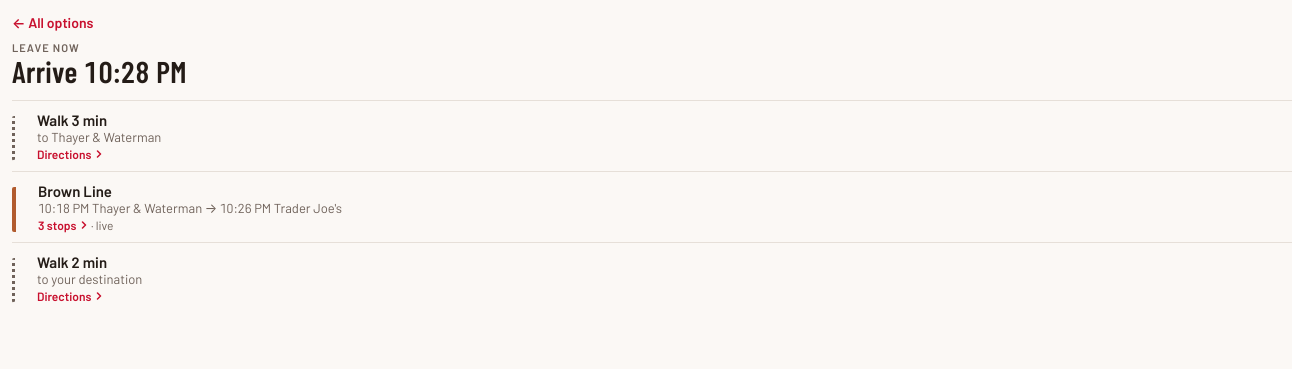
ItineraryDetail walking directions › rounds distances to something a walker can act on
Step 1. Click the button "Directions" next to "to your destination" → [70, 296], box left=31, top=284, right=109, bottom=308
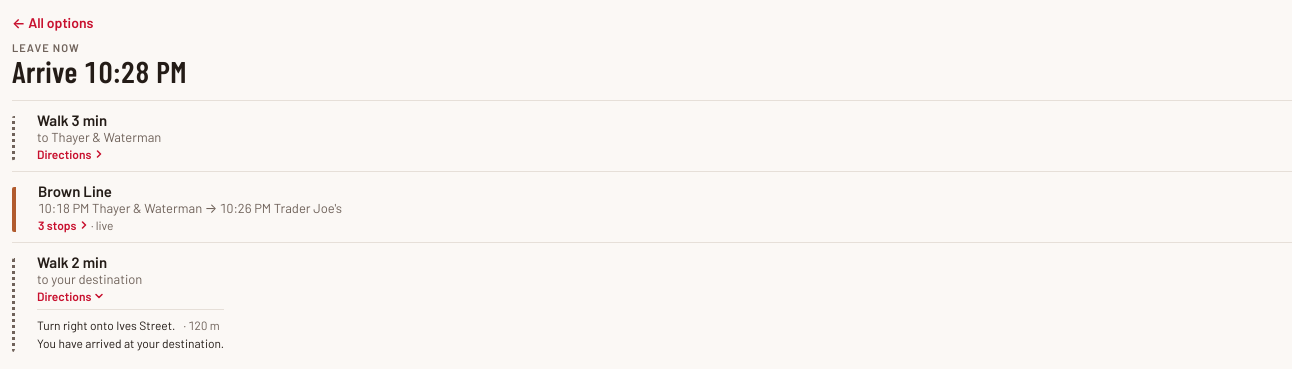
Expected: the list item "Turn right onto Ives Street. · 120 m" is shown, left=37, top=316, right=224, bottom=334
